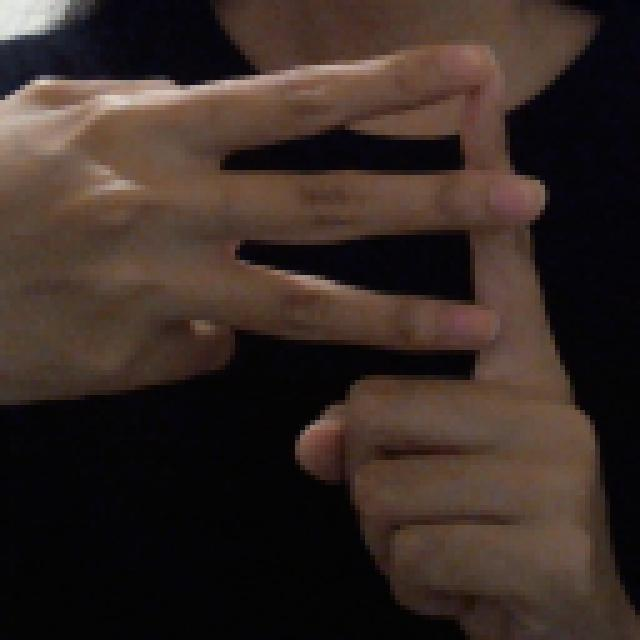B: (0, 46, 639, 640)
